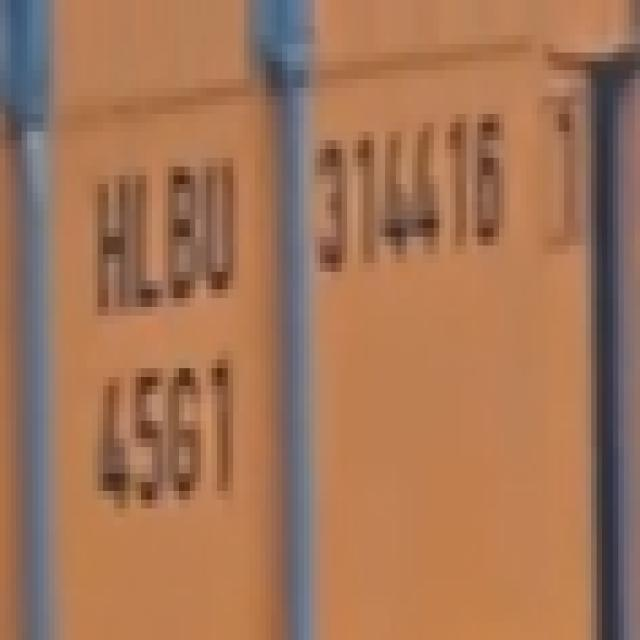dv: (522, 80, 592, 262)
owner: (79, 134, 239, 316)
serial: (308, 97, 511, 296)
size: (54, 332, 261, 523)
